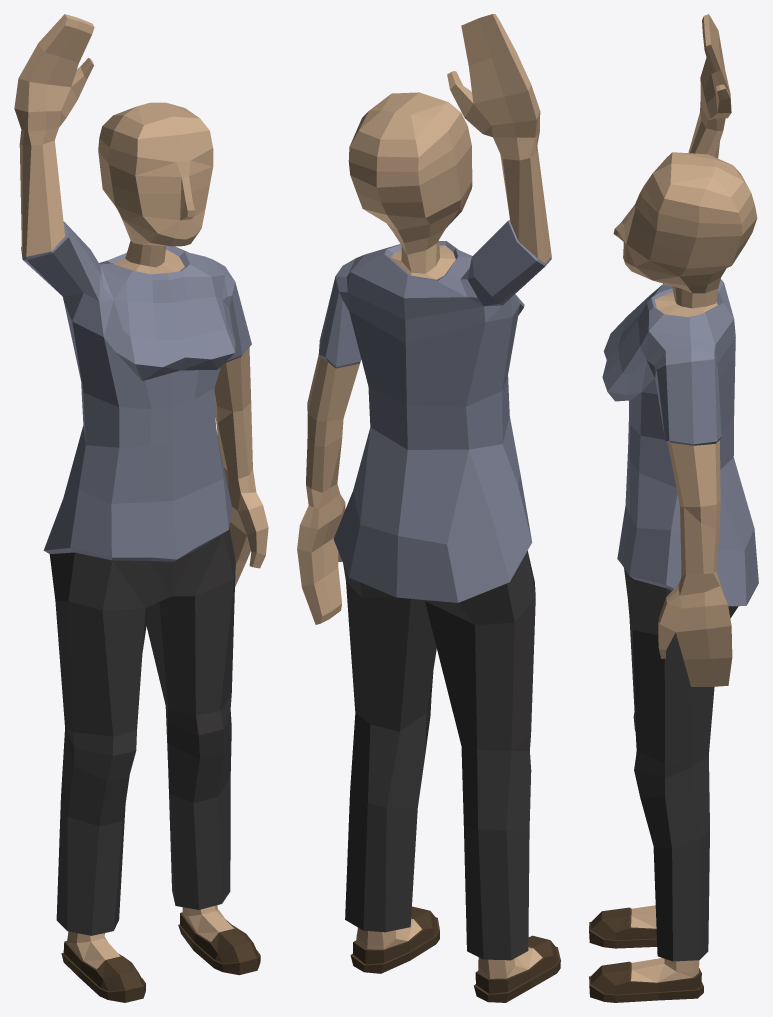
File: Woman_Standing_Waving.glb
3 renders of one model, left to right at view 1: azimuth 30°, elevation 25°; view 2: azimuth 150°, elevation 25°; view 3: azimuth 270°, elevation 25°, orthographic. The views are drawn at different scales.
Parts seen in each view (by area): view 1: Woman_Standing_Waving; view 2: Woman_Standing_Waving; view 3: Woman_Standing_Waving.
Boxes of the visible parts, box(x1,y1,x2,y2) form: Woman_Standing_Waving: box(14, 14, 268, 1002); Woman_Standing_Waving: box(297, 14, 560, 1002); Woman_Standing_Waving: box(589, 14, 758, 1002).
Size of the model in its own units: 1.06 by 4.21 by 0.7037.
